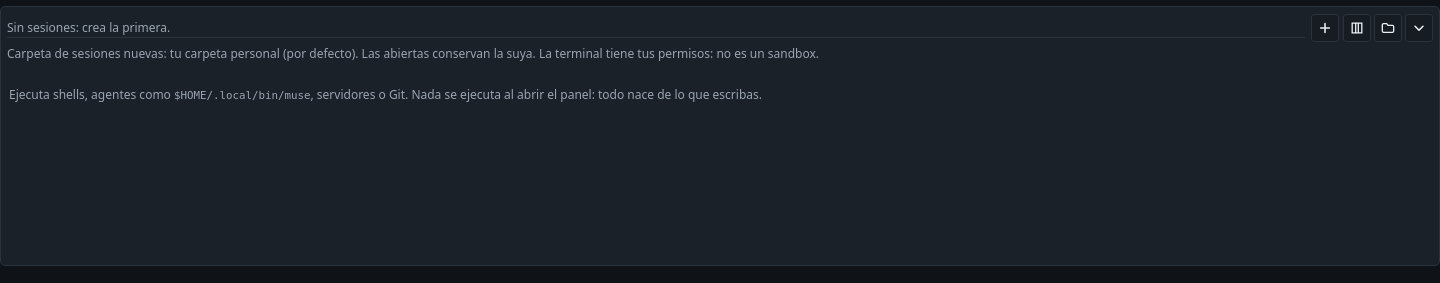
terminales: pestañas y paralelo › redimensiona cada PTY a su tamaño real, nunca cero
This screenshot has width=1440, height=283.
Click the button named "Nueva terminal" at (1325, 28), box [1311,14,1339,42]
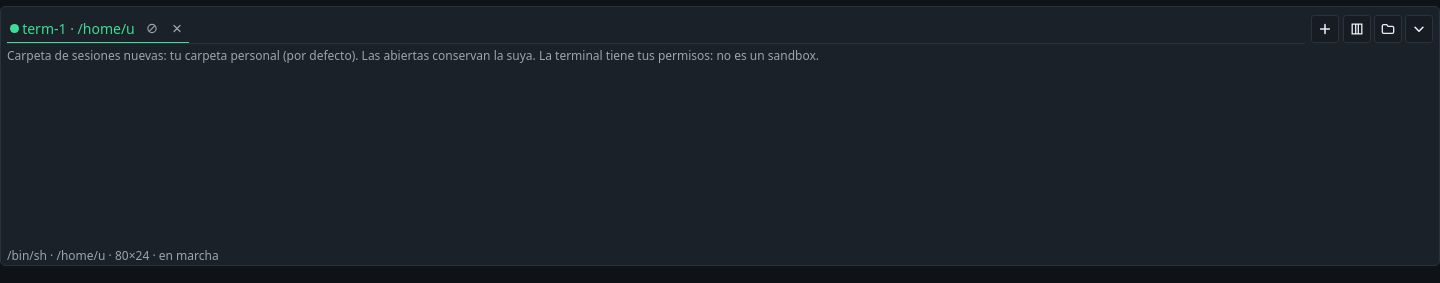
Check: the number of tabs is 1, box [7,14,138,42]
